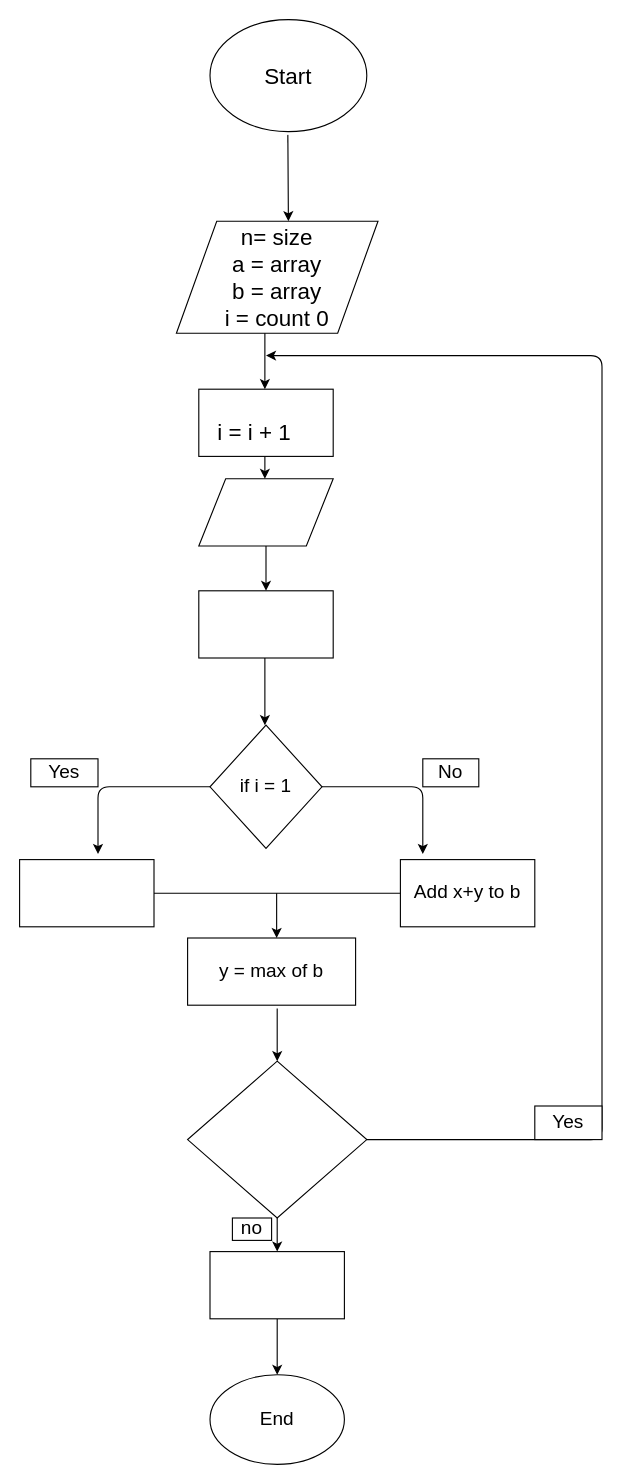
Some shapes in this 631 by 1484 pixel diagram are drawn without their labels. The shapes that lost their labels are listed below. From the top down, each one's centre as x and y in pixels, then its label:
At point (265, 512): "x= element".
At point (265, 624): "Insert x to a".
At point (86, 892): "Add x to b".
At point (276, 1139): "for range of n".
At point (276, 1284): "output a and b".
